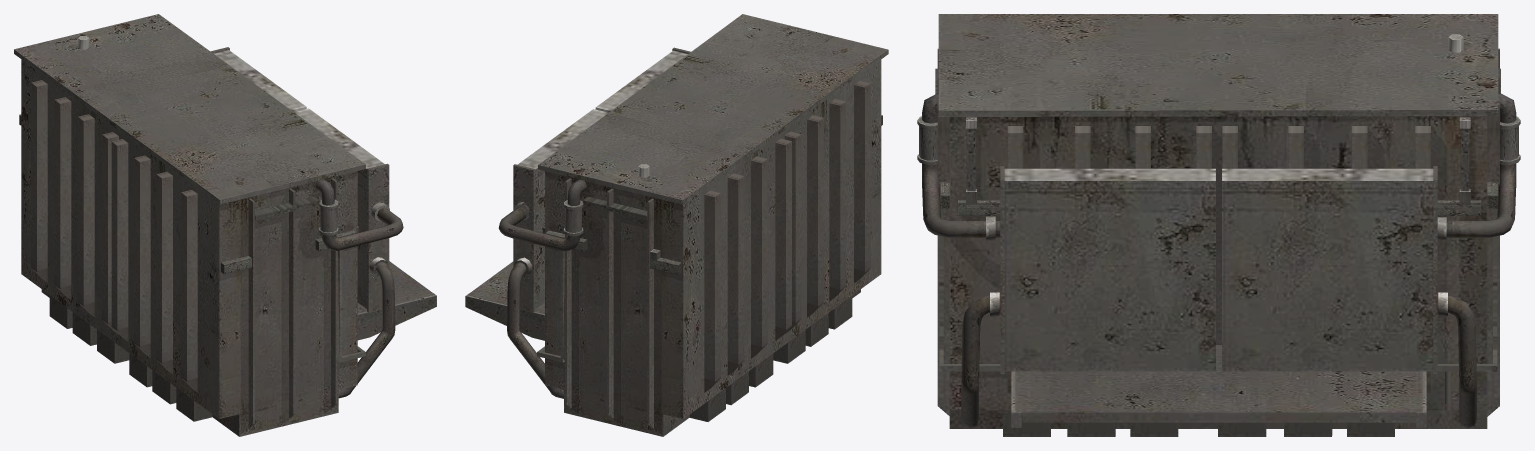
File: substation_transformer01a.glb
3 views of the same model, side by side, from view 1: azimuth 30°, elevation 25°; view 2: azimuth 150°, elevation 25°; view 3: azimuth 270°, elevation 25° (orthographic). The views are drawn at different scales.
Visible parts, largest first — view 1: 0_substation_transformer01a; view 2: 0_substation_transformer01a; view 3: 0_substation_transformer01a.
Boxes of the visible parts, box(x1,y1,x2,y2) form: 0_substation_transformer01a: box(14, 14, 436, 436); 0_substation_transformer01a: box(465, 14, 888, 436); 0_substation_transformer01a: box(917, 14, 1520, 436).
Size of the model in its own units: 3.97 by 3.85 by 6.08.
Materials: 1 (1 with a texture image).
